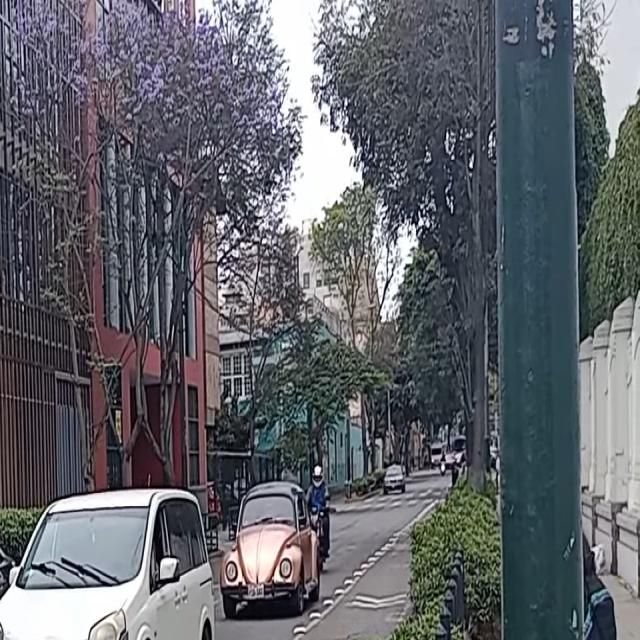car: (0, 488, 215, 640), (221, 484, 320, 610), (0, 512, 12, 640), (382, 462, 404, 496)
motorcycle: (304, 491, 330, 562), (440, 458, 450, 473)
